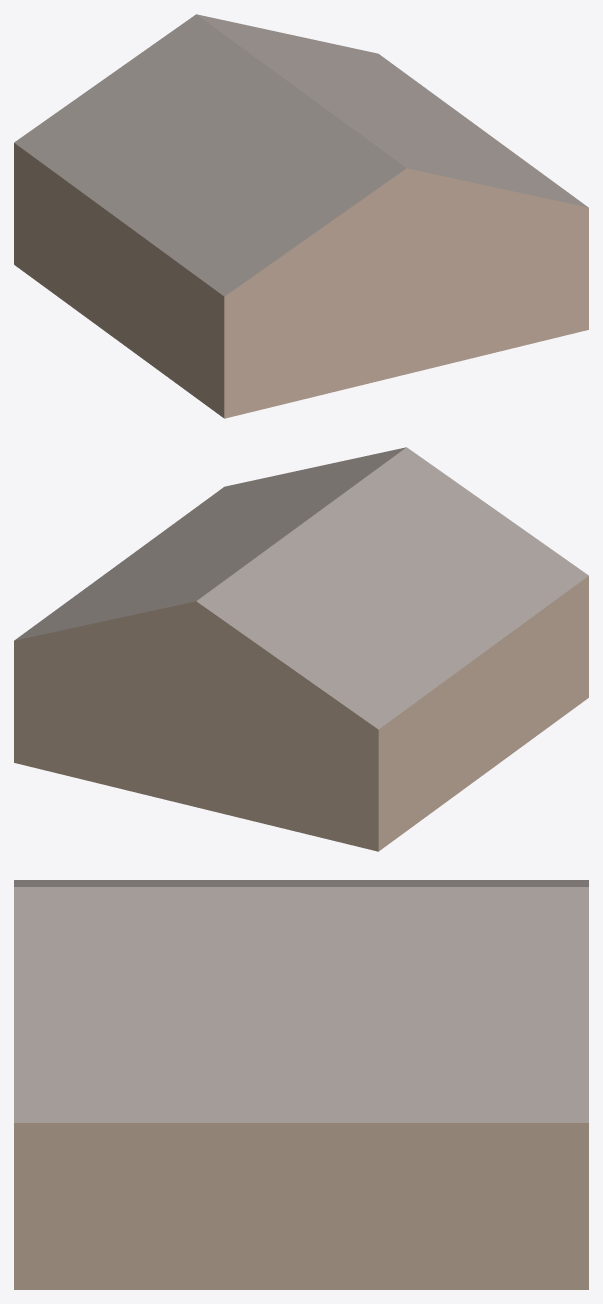
The model's file is casa_longe_3.glb.
The picture shows the model from 3 angles, top to bottom: view 1: azimuth 30°, elevation 25°; view 2: azimuth 150°, elevation 25°; view 3: azimuth 270°, elevation 25°; orthographic projection. The views are drawn at different scales.
Visible parts, largest first — view 1: w, t; view 2: w, t; view 3: t, w.
Boxes of the visible parts, bbox=[...] form: w: bbox=[14, 143, 588, 418]; t: bbox=[14, 14, 588, 296]; w: bbox=[14, 576, 588, 851]; t: bbox=[14, 447, 588, 729]; t: bbox=[14, 880, 588, 1122]; w: bbox=[14, 1123, 588, 1289].
Size of the model in its own units: 10 by 5.4 by 10.
